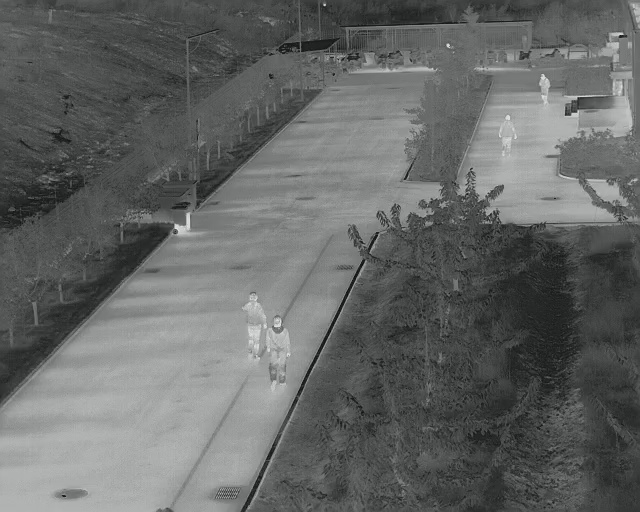person: (267, 316, 290, 390), (244, 291, 265, 360), (502, 116, 514, 155), (540, 73, 550, 105)
